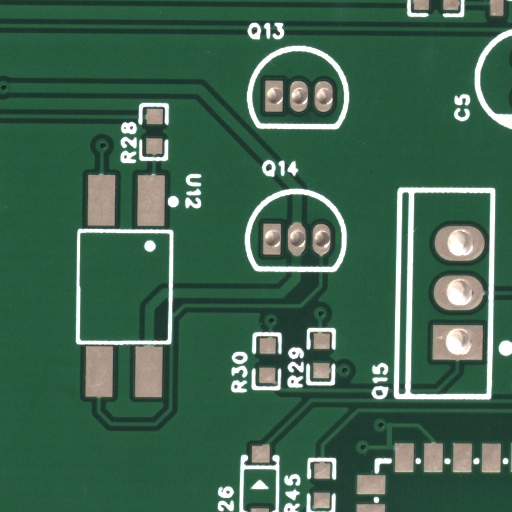Short: (389, 435, 398, 457)
